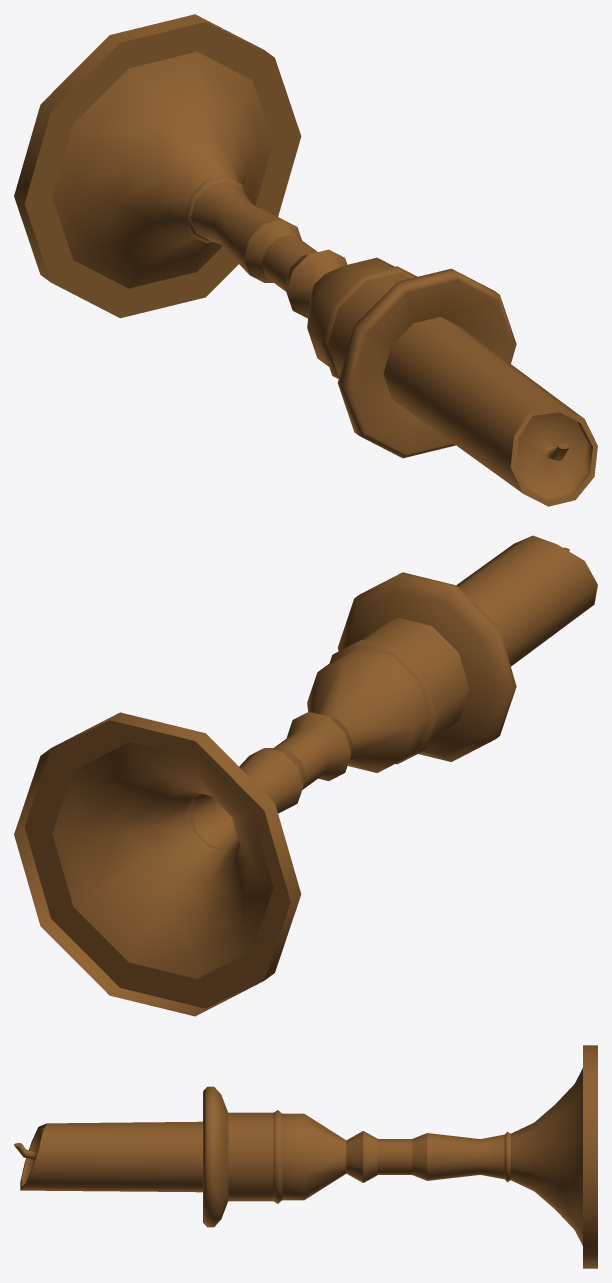
The picture shows the model from 3 angles, top to bottom: view 1: azimuth 30°, elevation 25°; view 2: azimuth 150°, elevation 25°; view 3: azimuth 270°, elevation 25°; orthographic projection. The views are drawn at different scales.
Bounding box in the file's own units: 0.3857 × 0.3669 × 1.
